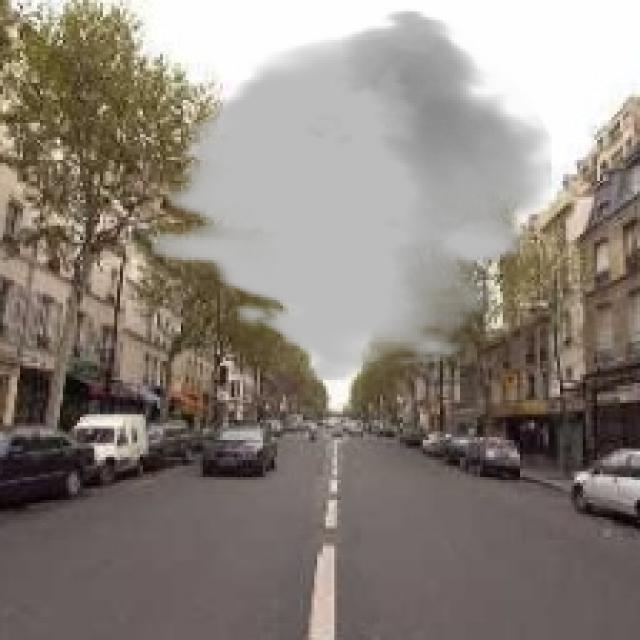smoke: (152, 8, 552, 383)
